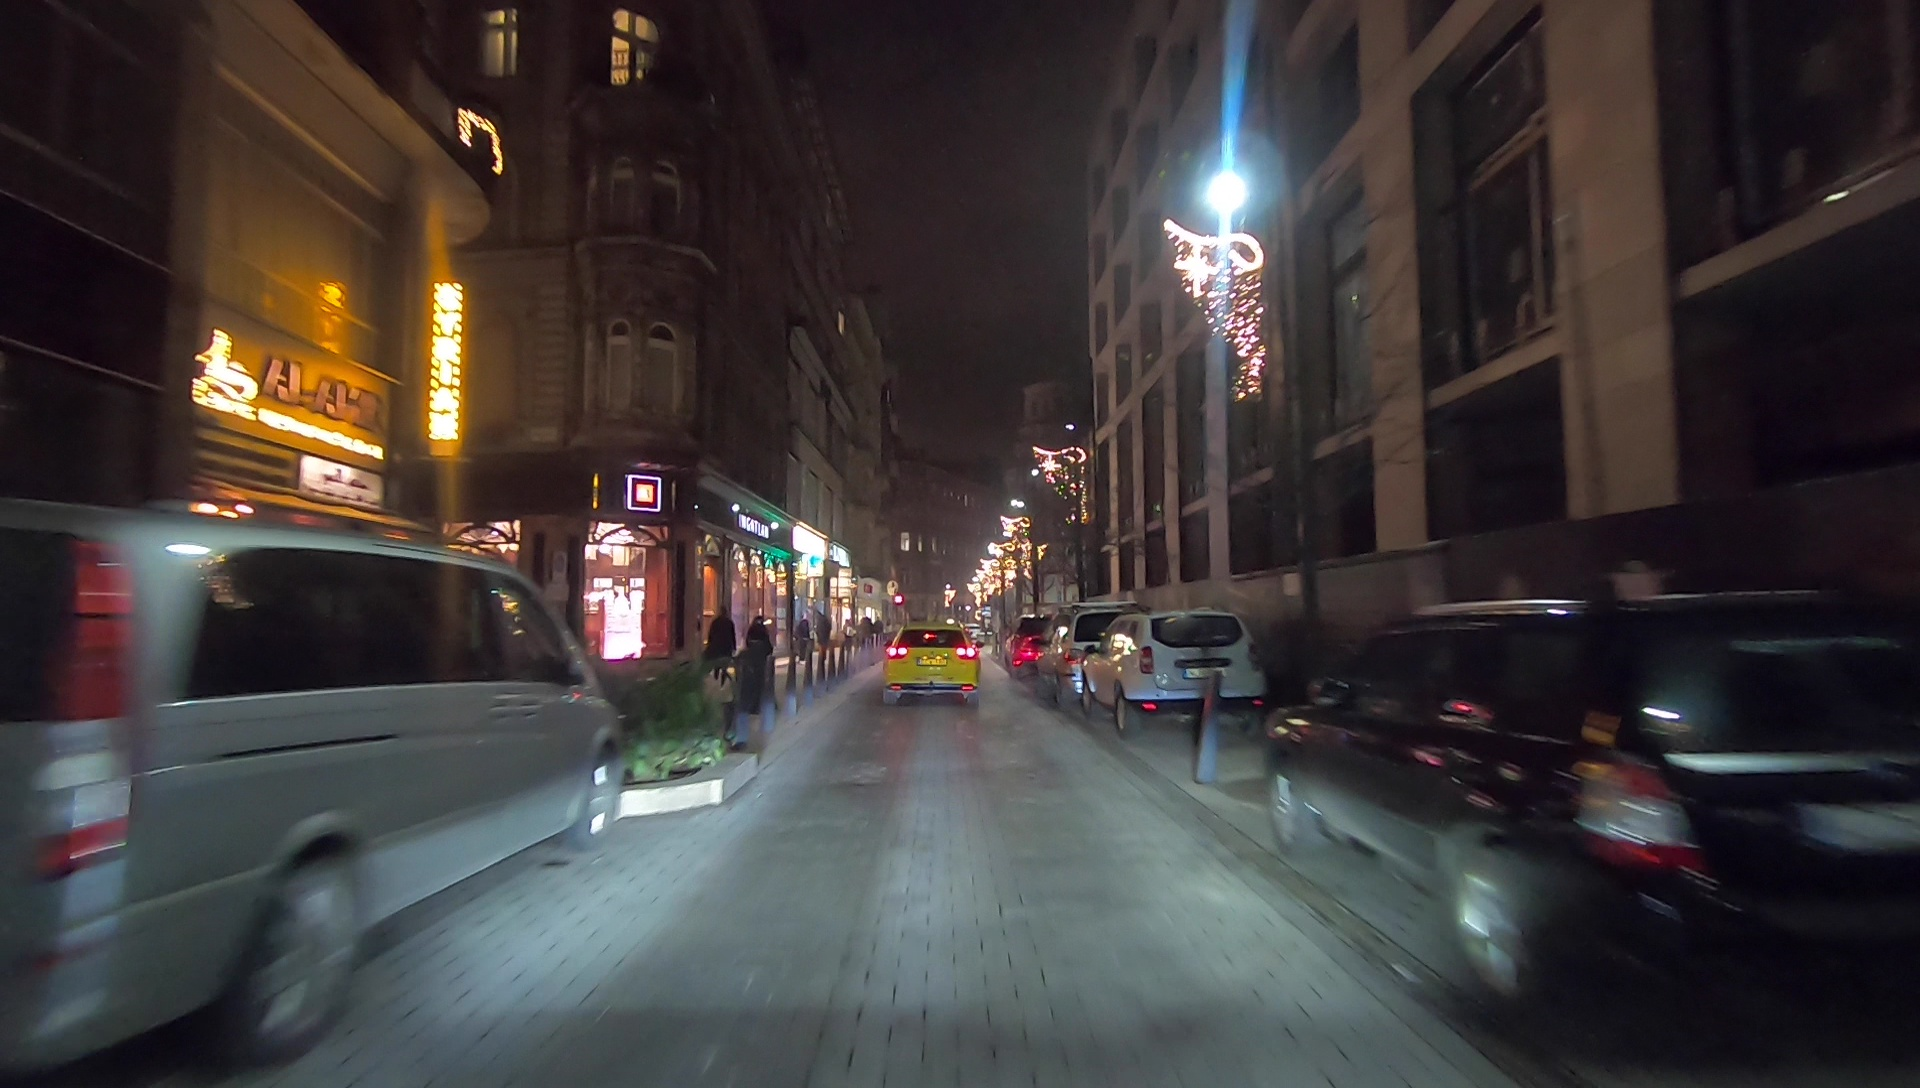person: (744, 614, 773, 692), (708, 606, 735, 688), (813, 611, 833, 661), (793, 616, 808, 670), (843, 619, 854, 660), (872, 616, 882, 648)
